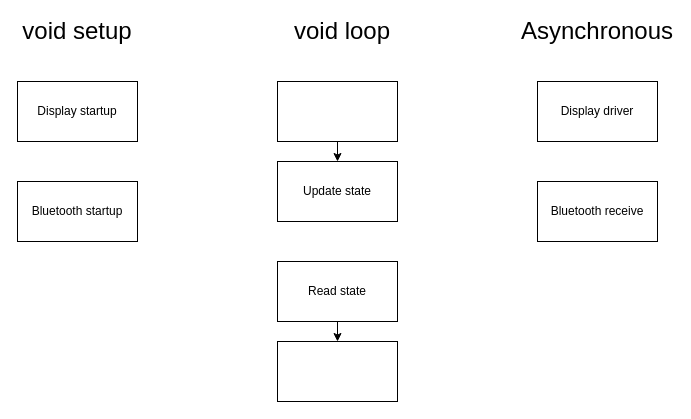
Image size: 691x419. Some labels were removed from this diagram. The box of each missing label's shape, as (x1, y1, x2, y2) in pixels:
Check buttons: (276, 80, 398, 142)
Display functions: (276, 340, 398, 402)
